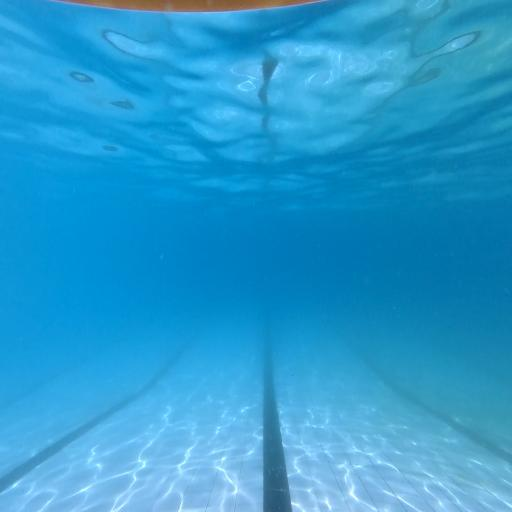upper_gate: (59, 1, 331, 13)
